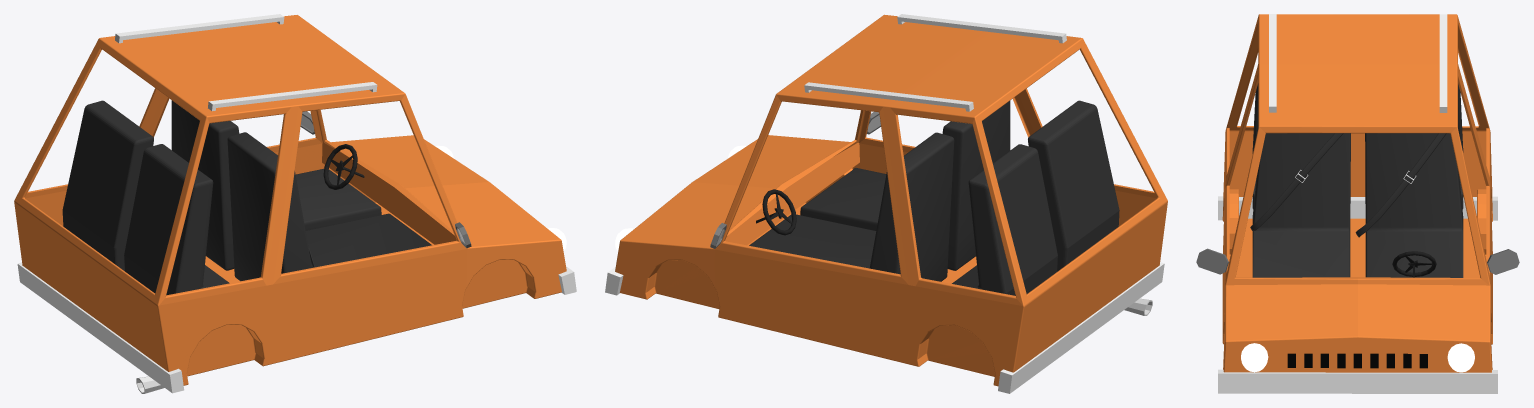
File: body.glb
The picture shows the model from 3 angles, left to right: view 1: azimuth 30°, elevation 25°; view 2: azimuth 150°, elevation 25°; view 3: azimuth 270°, elevation 25°; orthographic projection. The views are drawn at different scales.
Visible parts, largest first — view 1: Cube_0, Cube.008_12, Cube.011_15, Cube.010_14, Cube.009_13, Cube.002_2, Cube.004_8, Cube.003_7, Torus_19; view 2: Cube_0, Cube.009_13, Cube.010_14, Cube.011_15, Cube.008_12, Cube.002_2, Cube.004_8, Cube.003_7, Torus_19; view 3: Cube_0, Cube.008_12, Cube.009_13, Cube.001_1, Cube.007_11, Plane_21, Plane.001_22, Cube.004_8, Cube.002_2, Cube.003_7, Cylinder.006_17, Cylinder_16 (+4 smaller).
Boxes of the visible parts, left/top/right/bottom form: Cube_0: left=14, top=15, right=566, bottom=385; Cube.008_12: left=227, top=132, right=431, bottom=281; Cube.011_15: left=62, top=100, right=153, bottom=271; Cube.010_14: left=124, top=144, right=229, bottom=295; Cube.009_13: left=171, top=100, right=381, bottom=270; Cube.002_2: left=17, top=262, right=184, bottom=393; Cube.004_8: left=115, top=14, right=284, bottom=43; Cube.003_7: left=208, top=82, right=377, bottom=111; Torus_19: left=323, top=144, right=364, bottom=189; Cube_0: left=615, top=14, right=1167, bottom=386; Cube.009_13: left=749, top=132, right=954, bottom=281; Cube.010_14: left=1028, top=100, right=1119, bottom=271; Cube.011_15: left=952, top=144, right=1057, bottom=295; Cube.008_12: left=800, top=100, right=1010, bottom=270; Cube.002_2: left=998, top=262, right=1164, bottom=393; Cube.004_8: left=804, top=82, right=973, bottom=111; Cube.003_7: left=897, top=14, right=1066, bottom=43; Torus_19: left=756, top=189, right=796, bottom=235; Cube_0: left=1222, top=14, right=1492, bottom=372; Cube.008_12: left=1252, top=133, right=1350, bottom=277; Cube.009_13: left=1365, top=133, right=1463, bottom=277; Cube.001_1: left=1218, top=369, right=1497, bottom=393; Cube.007_11: left=1287, top=353, right=1427, bottom=368; Plane_21: left=1355, top=133, right=1446, bottom=237; Plane.001_22: left=1250, top=133, right=1343, bottom=230; Cube.004_8: left=1439, top=14, right=1447, bottom=112; Cube.002_2: left=1218, top=196, right=1497, bottom=220; Cube.003_7: left=1269, top=14, right=1276, bottom=112; Cylinder.006_17: left=1447, top=343, right=1474, bottom=372; Cylinder_16: left=1241, top=343, right=1268, bottom=372.
Size of the model in its own units: 3.38 by 2.05 by 2.44.
